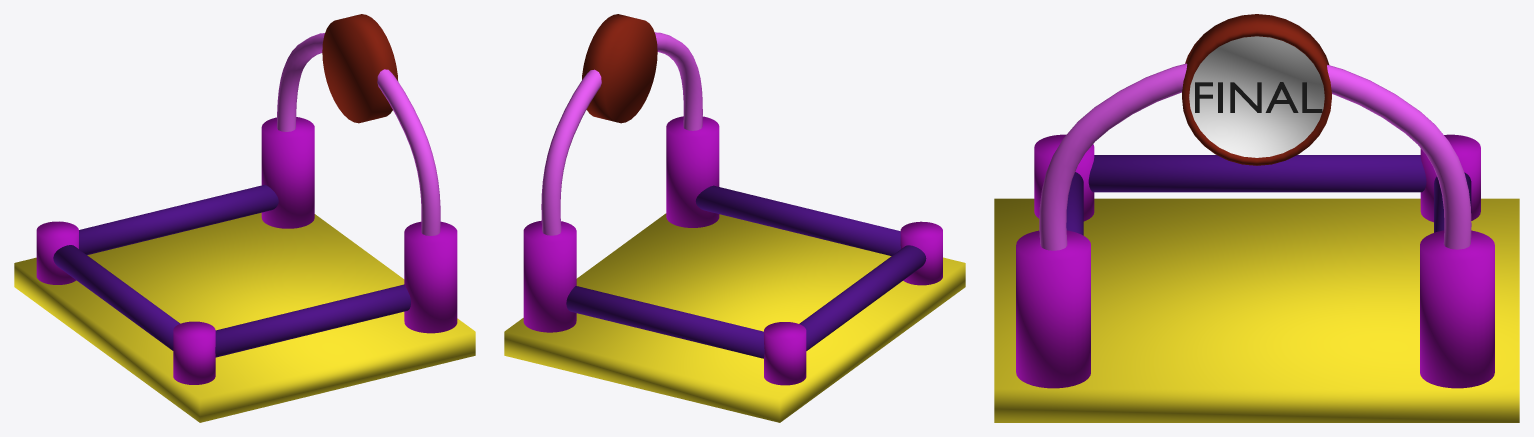
3 renders of one model, left to right at view 1: azimuth 30°, elevation 25°; view 2: azimuth 150°, elevation 25°; view 3: azimuth 270°, elevation 25°, orthographic. The views are drawn at different scales.
Parts seen in each view (by area): view 1: FINAL; view 2: FINAL; view 3: FINAL.
Part boxes in pixels (x1,y1,x2,y2): FINAL: (14, 14, 475, 422); FINAL: (504, 14, 965, 422); FINAL: (994, 14, 1519, 422).
Size of the model in its own units: 600 by 567 by 700.
Materials: 2 (2 with a texture image).
